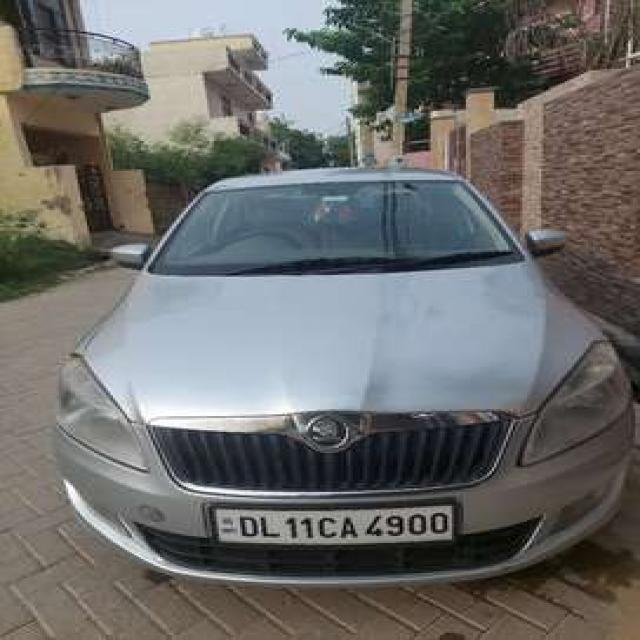license-plate: (209, 501, 452, 541)
